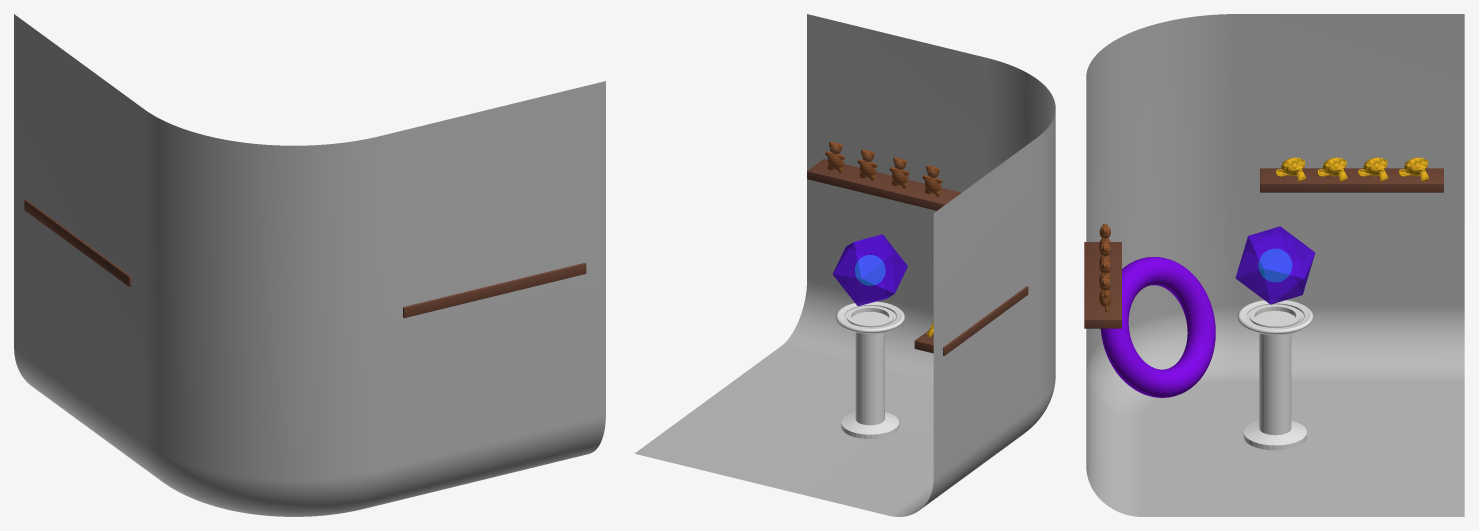
Rendered from musee.glb.
3 views of the same model, side by side, from view 1: azimuth 30°, elevation 25°; view 2: azimuth 150°, elevation 25°; view 3: azimuth 270°, elevation 25° (orthographic). The views are drawn at different scales.
Parts seen in each view (by area): view 1: Room, Shelf_Mr_Nounours, Shelf_Suzanne; view 2: Room, Piedestal, Tesseract, Shelf_Mr_Nounours, Shelf_Suzanne; view 3: Room, Torus, Piedestal, Tesseract, Shelf_Suzanne, Shelf_Mr_Nounours, Suzanne2, Suzanne3, Suzanne1, Suzanne4.
Part boxes in pixels (x1,y1,x2,y2): Room: (14, 14, 605, 516); Shelf_Mr_Nounours: (403, 263, 586, 318); Shelf_Suzanne: (24, 199, 131, 286); Room: (635, 14, 1055, 516); Piedestal: (835, 301, 904, 438); Tesseract: (832, 234, 907, 306); Shelf_Mr_Nounours: (807, 159, 961, 210); Shelf_Suzanne: (914, 286, 1028, 355); Room: (1086, 14, 1464, 516); Torus: (1100, 257, 1215, 397); Piedestal: (1237, 300, 1313, 450); Tesseract: (1235, 226, 1315, 304); Shelf_Suzanne: (1260, 168, 1443, 192); Shelf_Mr_Nounours: (1084, 242, 1121, 328); Suzanne2: (1358, 157, 1388, 181); Suzanne3: (1317, 157, 1347, 181); Suzanne1: (1398, 157, 1428, 181); Suzanne4: (1275, 157, 1305, 181).
Bounding box in the file's own units: 20.1 × 20.1 × 20.1.
